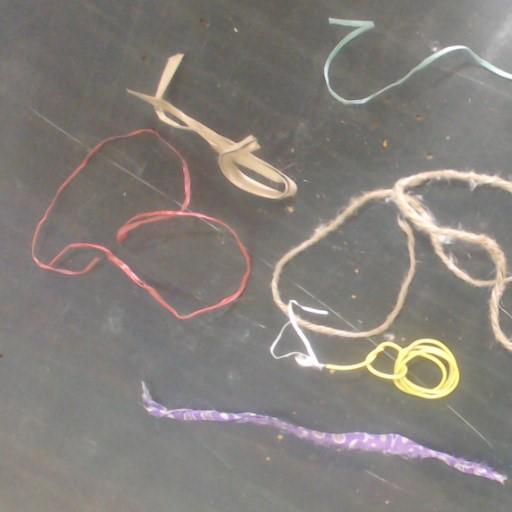cloth: (142, 382, 505, 483)
conveyor belt: (40, 137, 244, 311), (282, 201, 408, 329), (412, 181, 511, 271), (445, 243, 492, 278), (501, 284, 511, 315), (501, 310, 510, 335)
jute: (271, 170, 511, 351), (303, 220, 414, 337)
thread: (32, 128, 250, 319), (127, 53, 296, 199), (270, 300, 459, 398), (323, 17, 511, 104), (271, 300, 322, 368), (304, 306, 327, 313)
